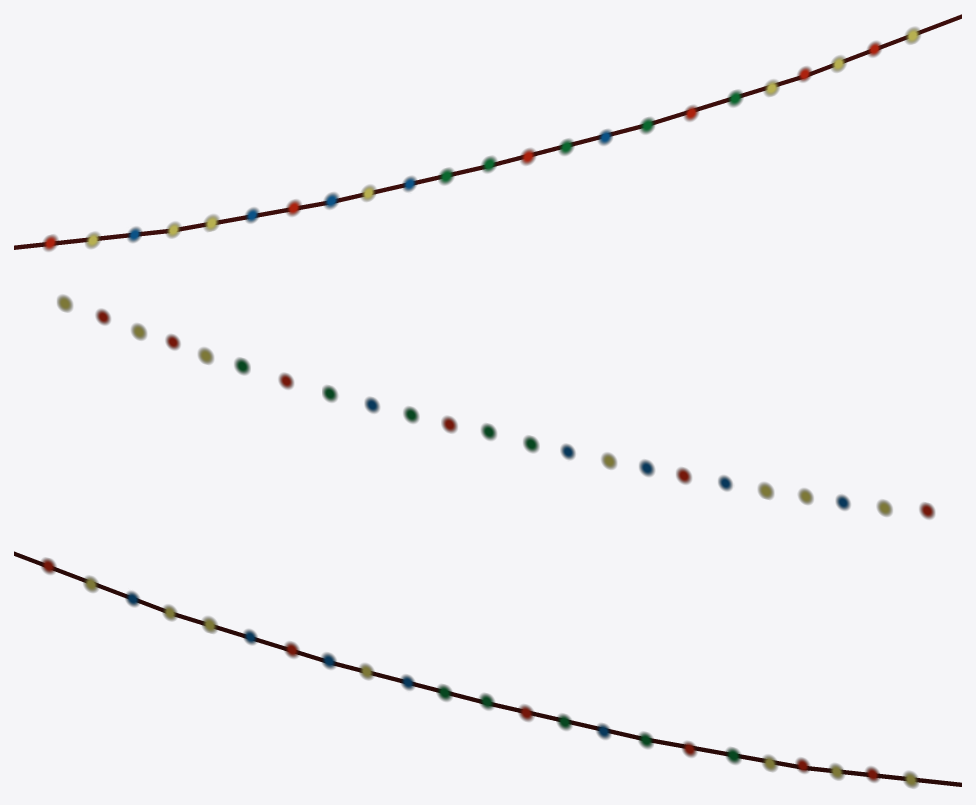
File: Lights02.glb
3 views of the same model, one above another, from view 1: azimuth 30°, elevation 25°; view 2: azimuth 150°, elevation 25°; view 3: azimuth 330°, elevation 25° (orthographic).
Parts seen in each view (by area): view 1: Lights02; view 2: Lights02; view 3: Lights02.
Part boxes in pixels (x1,y1,x2,y2): Lights02: [14, 14, 961, 251]; Lights02: [57, 295, 934, 519]; Lights02: [14, 551, 961, 788].
Bounding box in the file's own units: 10.84 × 0.5223 × 0.0356.
1 material, 1 textured.
